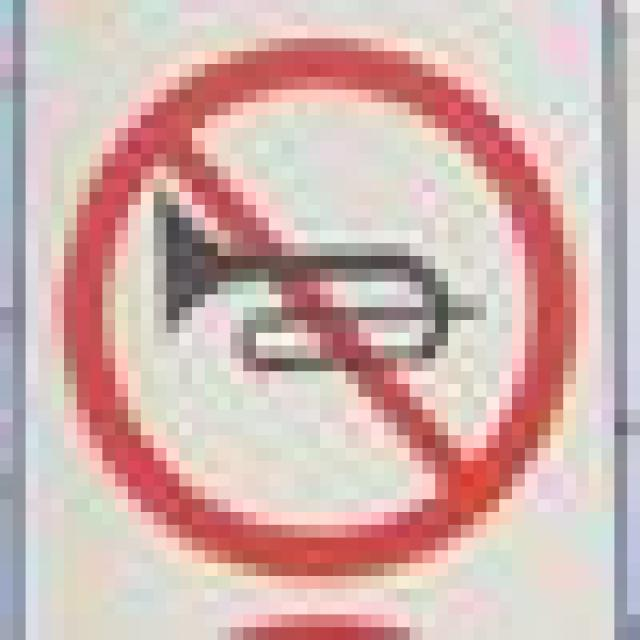HORN_PROHIBITED: (51, 13, 563, 576)
